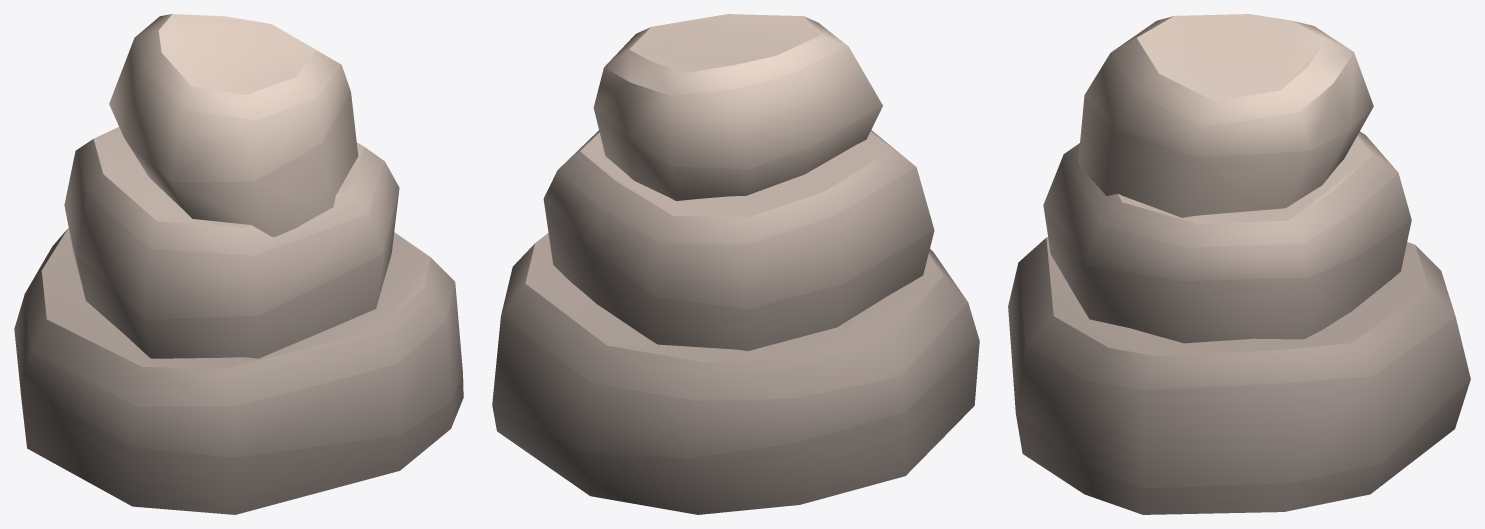
The model's file is Obstacle_Desert.fbx.
3 renders of one model, left to right at view 1: azimuth 30°, elevation 25°; view 2: azimuth 150°, elevation 25°; view 3: azimuth 270°, elevation 25°, orthographic. The views are drawn at different scales.
Visible parts, largest first — view 1: Obstacle_Desert; view 2: Obstacle_Desert; view 3: Obstacle_Desert.
Part boxes in pixels (bbox=[...]): Obstacle_Desert: bbox=[14, 14, 463, 514]; Obstacle_Desert: bbox=[492, 14, 979, 514]; Obstacle_Desert: bbox=[1008, 14, 1470, 514].
Bounding box in the file's own units: 101 × 93.49 × 104.
1 material, 1 textured.
